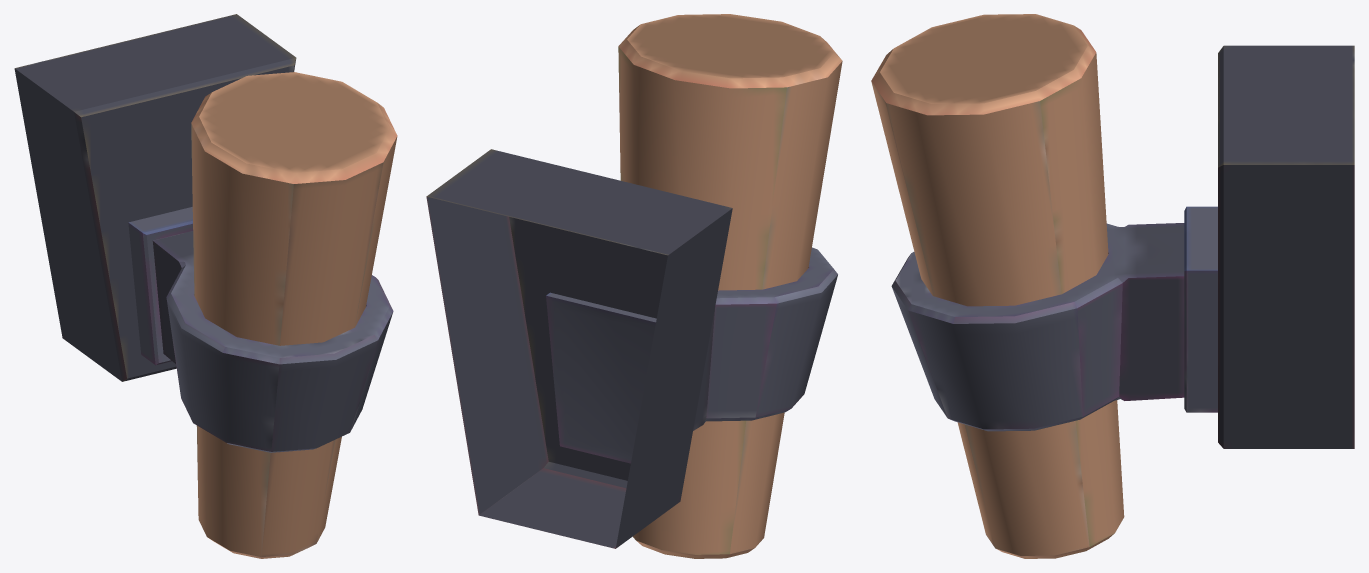
The model's file is TochaParede.fbx.
The picture shows the model from 3 angles, left to right: view 1: azimuth 30°, elevation 25°; view 2: azimuth 150°, elevation 25°; view 3: azimuth 270°, elevation 25°; orthographic projection. The views are drawn at different scales.
Parts seen in each view (by area): view 1: Tocha de parede; view 2: Tocha de parede; view 3: Tocha de parede.
Boxes of the visible parts, <box> form: Tocha de parede: <box>14,14,397,558</box>; Tocha de parede: <box>426,14,842,558</box>; Tocha de parede: <box>871,14,1354,558</box>.
Size of the model in its own units: 19.65 by 37.98 by 33.66.
1 material, 1 textured.
